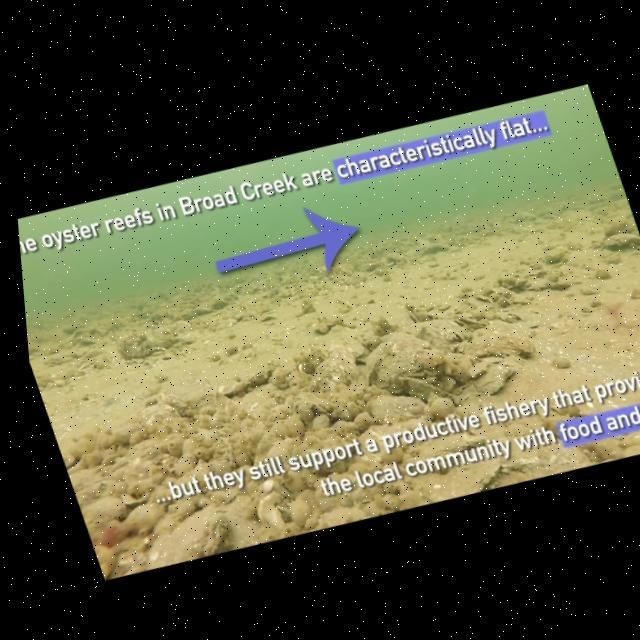Oyster-Closed: (501, 204, 541, 233)
Oyster-Indeterminate: (449, 302, 546, 368), (165, 504, 257, 566), (412, 456, 507, 502), (397, 363, 472, 417), (362, 383, 435, 437), (296, 352, 361, 406), (403, 308, 469, 360), (156, 369, 220, 421), (317, 330, 366, 386), (230, 376, 287, 424), (111, 493, 174, 535), (249, 484, 300, 534), (466, 358, 521, 400), (130, 395, 182, 434), (81, 489, 129, 528), (111, 328, 157, 366), (596, 226, 640, 262), (233, 360, 281, 392), (92, 538, 128, 580), (588, 430, 624, 465), (209, 373, 247, 406), (536, 241, 576, 271), (71, 475, 109, 506), (597, 210, 634, 241), (489, 303, 528, 331), (412, 234, 454, 260), (117, 483, 155, 510), (547, 348, 580, 379), (521, 273, 555, 300), (73, 327, 111, 351), (609, 435, 640, 462), (145, 317, 175, 343), (57, 316, 88, 340), (339, 268, 372, 290), (314, 258, 345, 281), (535, 263, 563, 287), (503, 286, 532, 309), (381, 244, 409, 267), (471, 287, 498, 310), (614, 427, 640, 449), (207, 294, 234, 315), (495, 271, 522, 291), (591, 264, 615, 286), (489, 280, 515, 300), (214, 316, 241, 335), (222, 304, 247, 324), (239, 305, 267, 322), (60, 448, 80, 471), (358, 258, 386, 274), (487, 289, 509, 307), (150, 334, 173, 349), (193, 302, 213, 319), (177, 306, 198, 321), (61, 308, 81, 323), (153, 287, 171, 303), (628, 285, 640, 304), (224, 314, 238, 328)
Oyster-Open: (353, 328, 439, 395), (164, 330, 197, 350), (151, 344, 168, 356)
